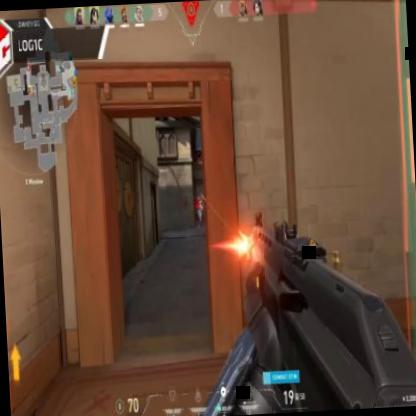enemy: (194, 195, 203, 226)
enemy_head: (197, 194, 200, 203)
